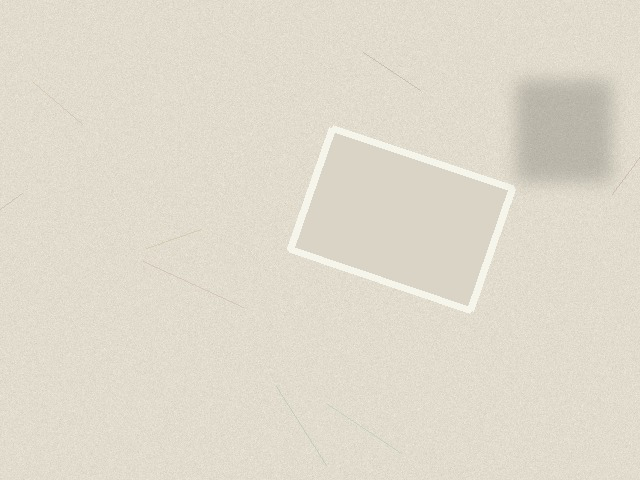parking_area: (290, 128, 512, 310)
